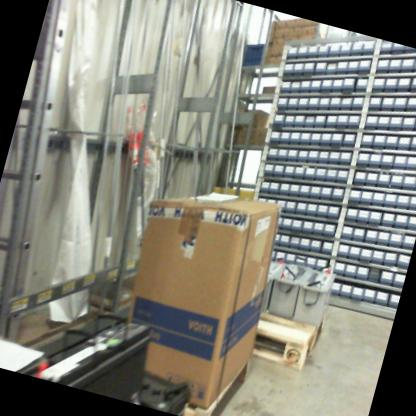pallet: (233, 285, 336, 382), (156, 335, 260, 416)
